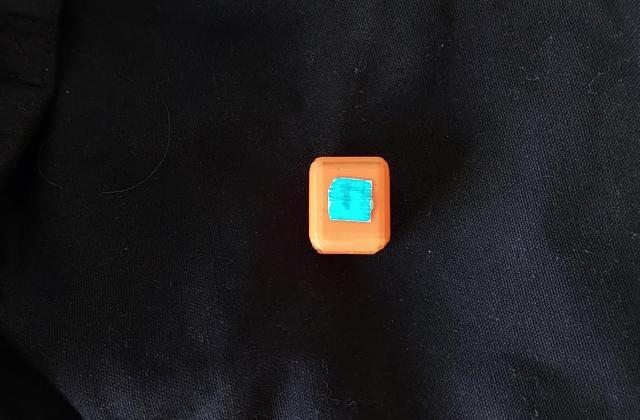blue: (336, 188, 366, 214)
sticker: (306, 153, 394, 259)
